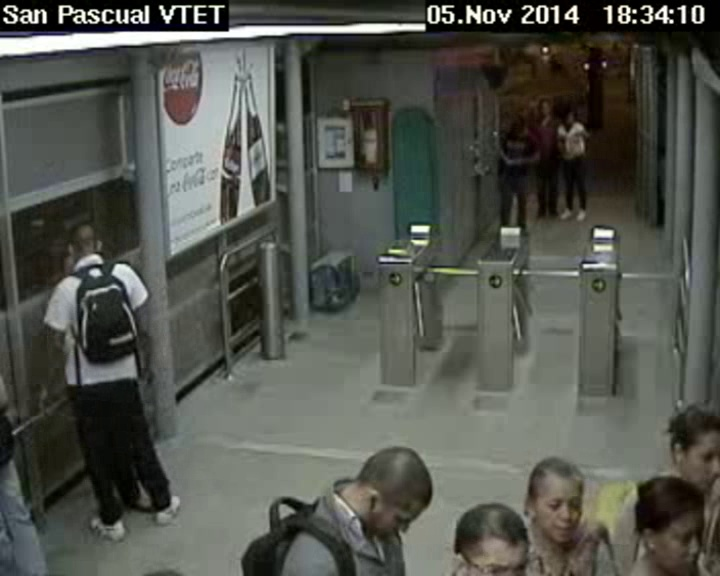person: (345, 437, 432, 547), (632, 465, 709, 572), (520, 441, 589, 541), (652, 397, 720, 493), (451, 501, 538, 576), (68, 223, 101, 266), (537, 95, 550, 122), (509, 110, 525, 130), (561, 108, 575, 126)
